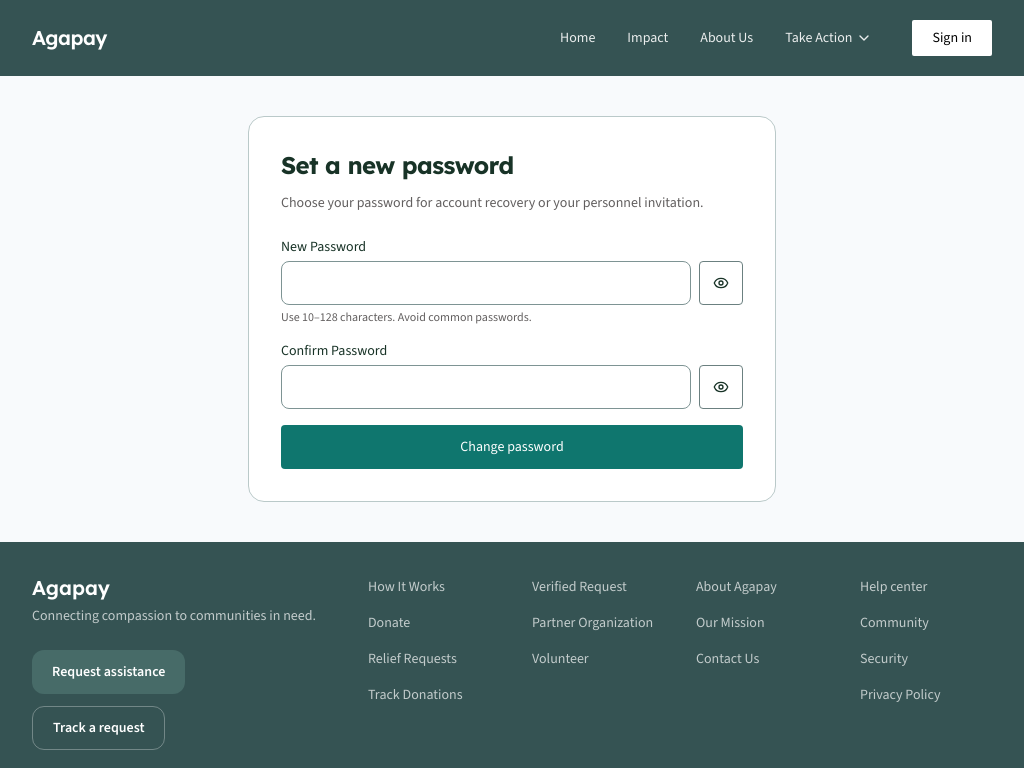
it: ResetPasswordPage › sets a new password from a link token
In the password field labelled "New Password": {"x": 486, "y": 283} x1=281 y1=261 x2=691 y2=305, type "brand-new-password-9"
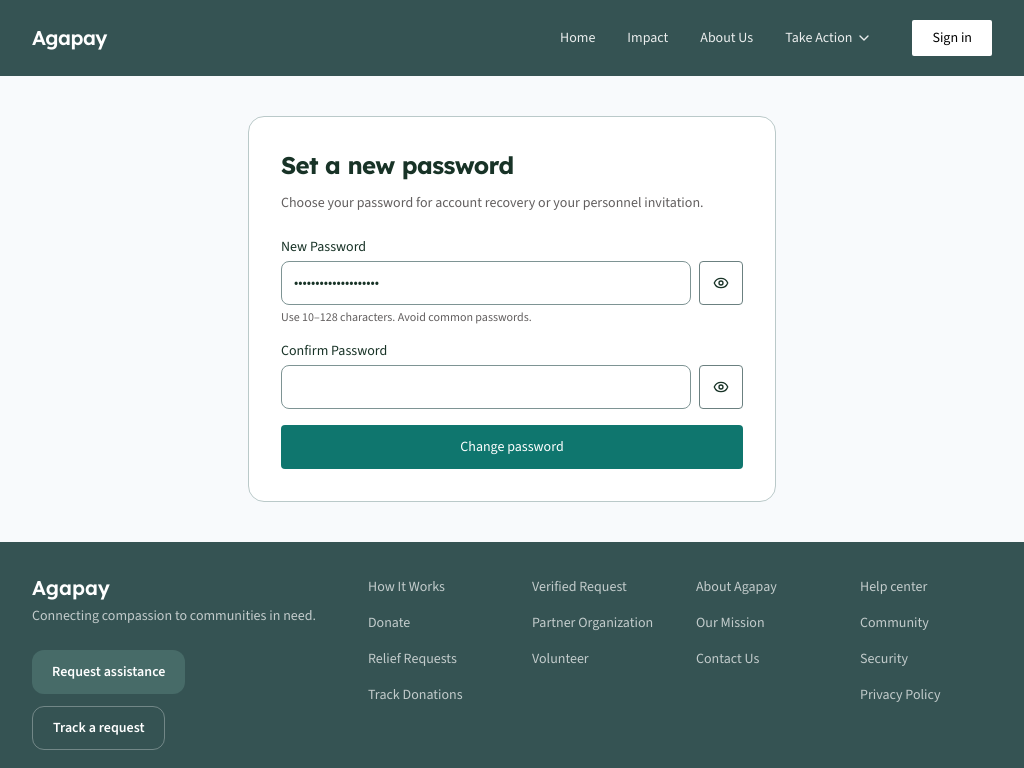
In the password field labelled "Confirm Password": {"x": 486, "y": 387} x1=281 y1=365 x2=691 y2=409, type "brand-new-password-9"
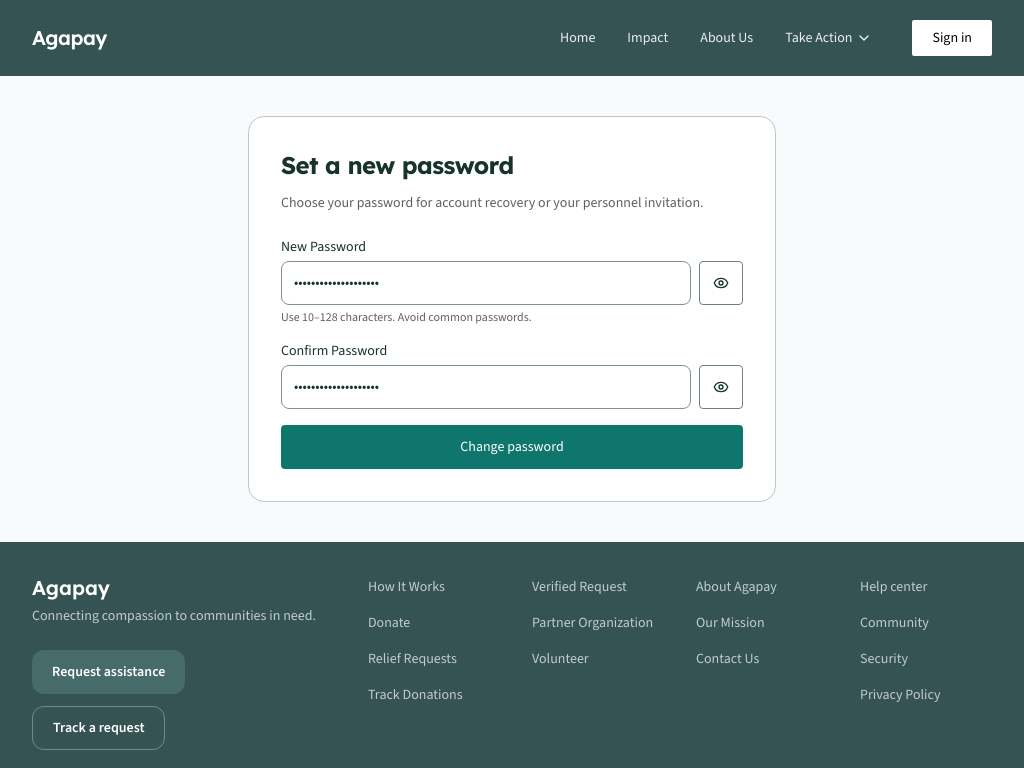
Click the button "Change password": {"x": 512, "y": 447} x1=281 y1=425 x2=743 y2=469
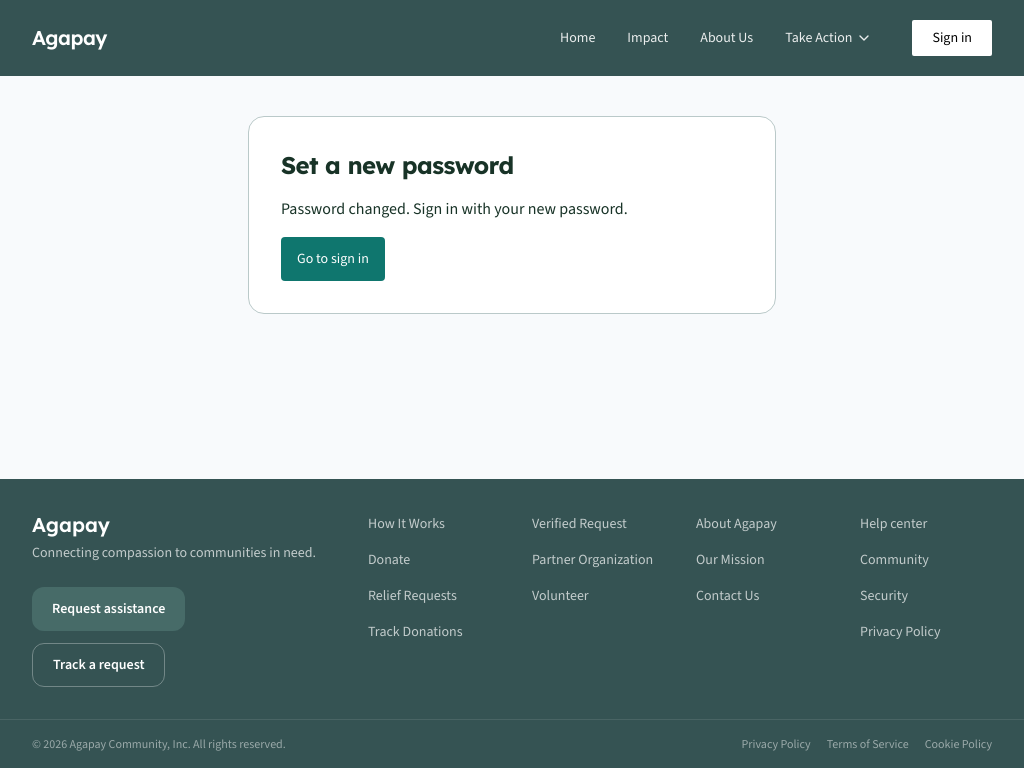
Now the text "Password changed. Sign in with your new password." is shown, box x1=281 y1=197 x2=628 y2=221
